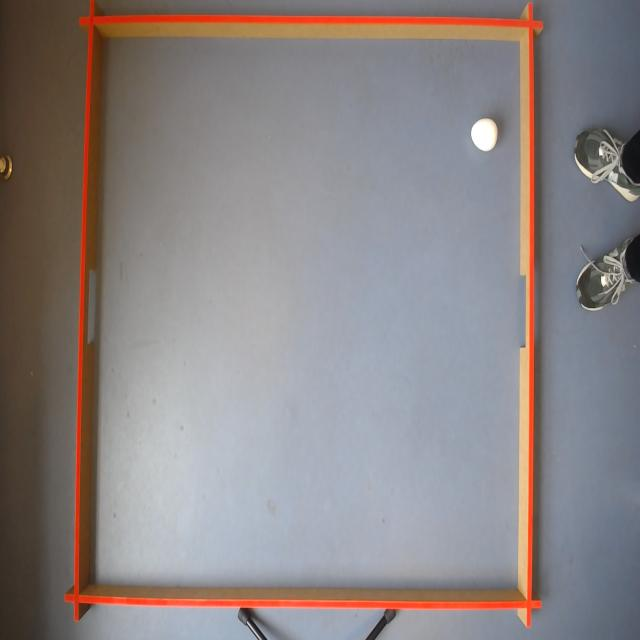corner: (516, 0, 544, 50), (516, 581, 543, 627), (64, 575, 88, 620), (79, 0, 103, 40)
